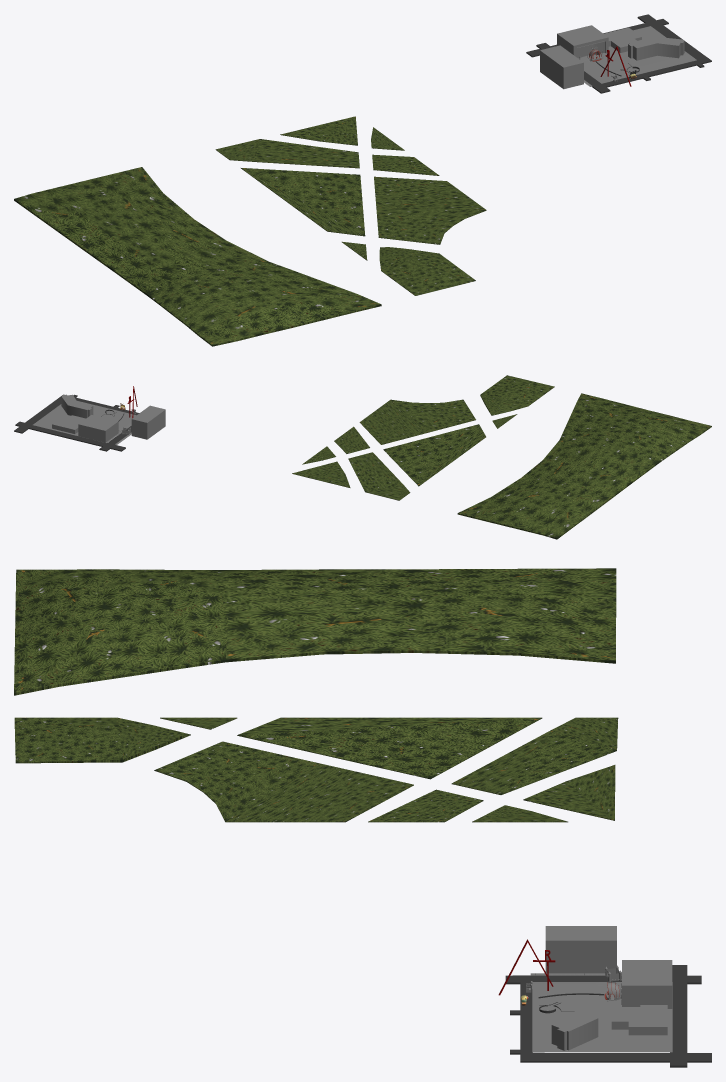
Rendered from Quad_Ver1.fbx.
3 renders of one model, top to bottom at view 1: azimuth 30°, elevation 25°; view 2: azimuth 150°, elevation 25°; view 3: azimuth 270°, elevation 25°, orthographic. The views are drawn at different scales.
Parts seen in each view (by area): view 1: polySurface3, pPlane2, Road, pCube7, polySurface28, pCube3, pCube2; view 2: polySurface3, Road, pPlane2, pCube7, polySurface28, pCube3, pCube2; view 3: polySurface3, pPlane2, Road, pCube7, polySurface28, pCube3, pCube2.
Part boxes in pixels (left/top/right/bottom): polySurface3: left=14, top=116, right=486, bottom=346; pPlane2: left=578, top=26, right=696, bottom=83; Road: left=526, top=14, right=711, bottom=93; pCube7: left=540, top=45, right=583, bottom=89; polySurface28: left=557, top=25, right=608, bottom=58; pCube3: left=628, top=36, right=684, bottom=60; pCube2: left=604, top=27, right=641, bottom=52; polySurface3: left=292, top=375, right=711, bottom=539; Road: left=14, top=394, right=139, bottom=451; pPlane2: left=33, top=401, right=136, bottom=442; pCube7: left=131, top=405, right=165, bottom=439; polySurface28: left=78, top=415, right=118, bottom=442; pCube3: left=61, top=394, right=93, bottom=418; pCube2: left=52, top=415, right=85, bottom=433; polySurface3: left=14, top=568, right=618, bottom=822; pPlane2: left=532, top=982, right=672, bottom=1052; Road: left=505, top=965, right=711, bottom=1067; pCube7: left=545, top=926, right=616, bottom=973; polySurface28: left=622, top=960, right=672, bottom=1008; pCube3: left=551, top=998, right=598, bottom=1050; pCube2: left=611, top=1005, right=667, bottom=1035.
Size of the model in its own units: 80210 by 4216 by 47706.
